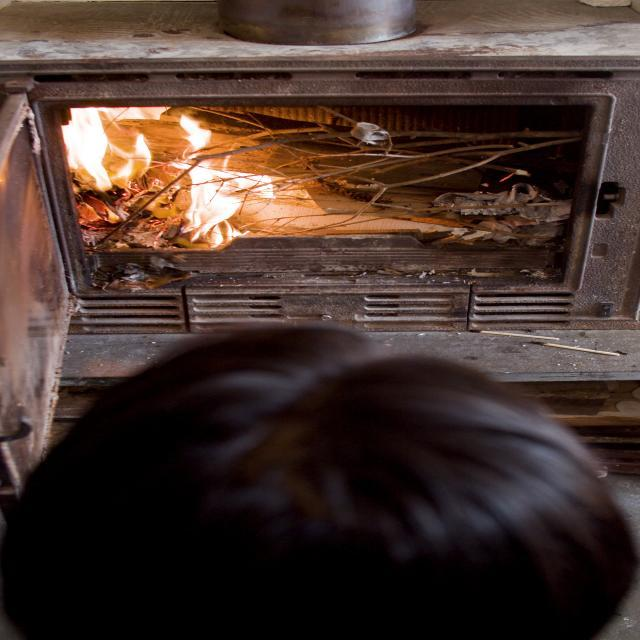Fire: (56, 102, 290, 242)
Smoke: (212, 0, 438, 38)
